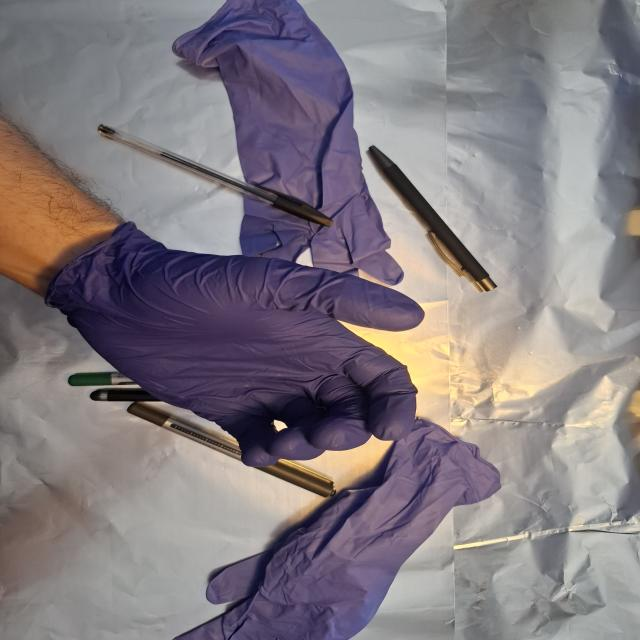glove_on: (54, 223, 428, 470)
